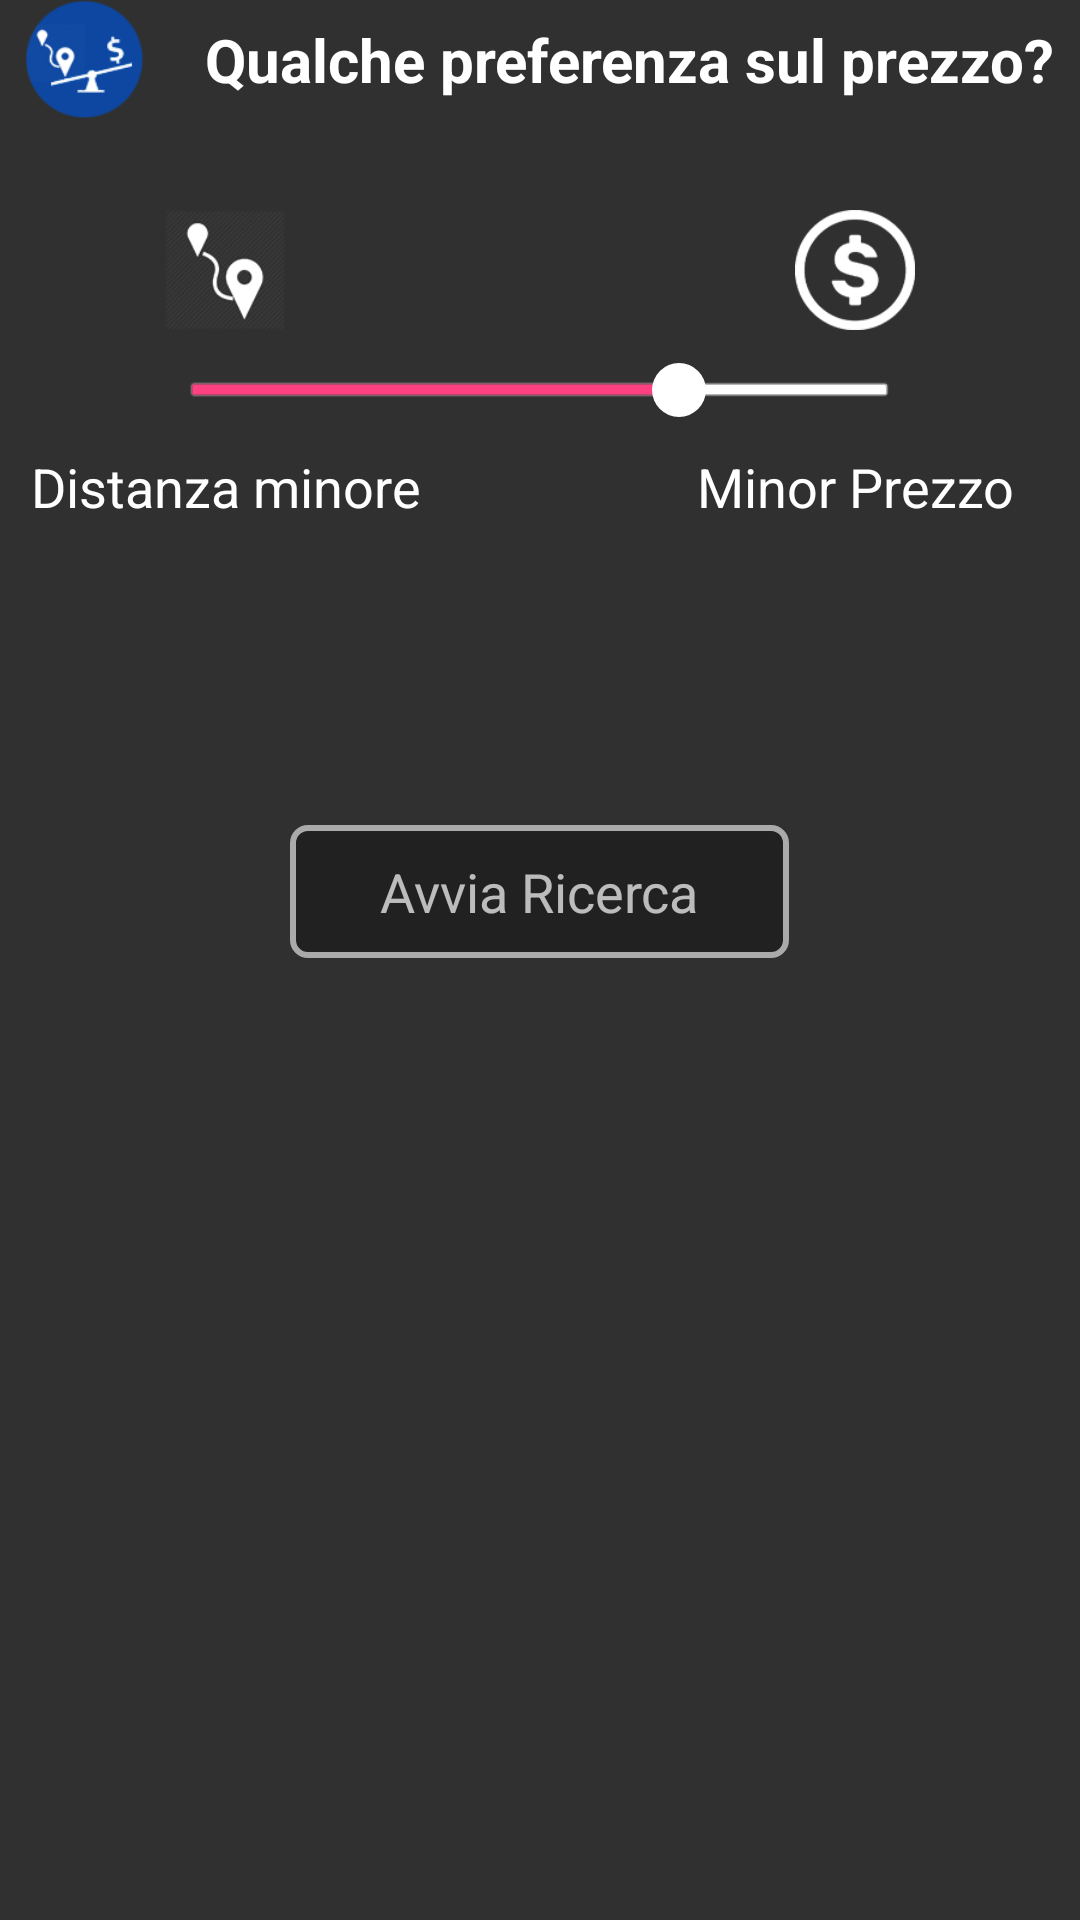

Icon click points for this 1080 x 1920 phone screenshot, format (x,y):
balance: (84,59)
distance: (225,271)
price: (855,270)
